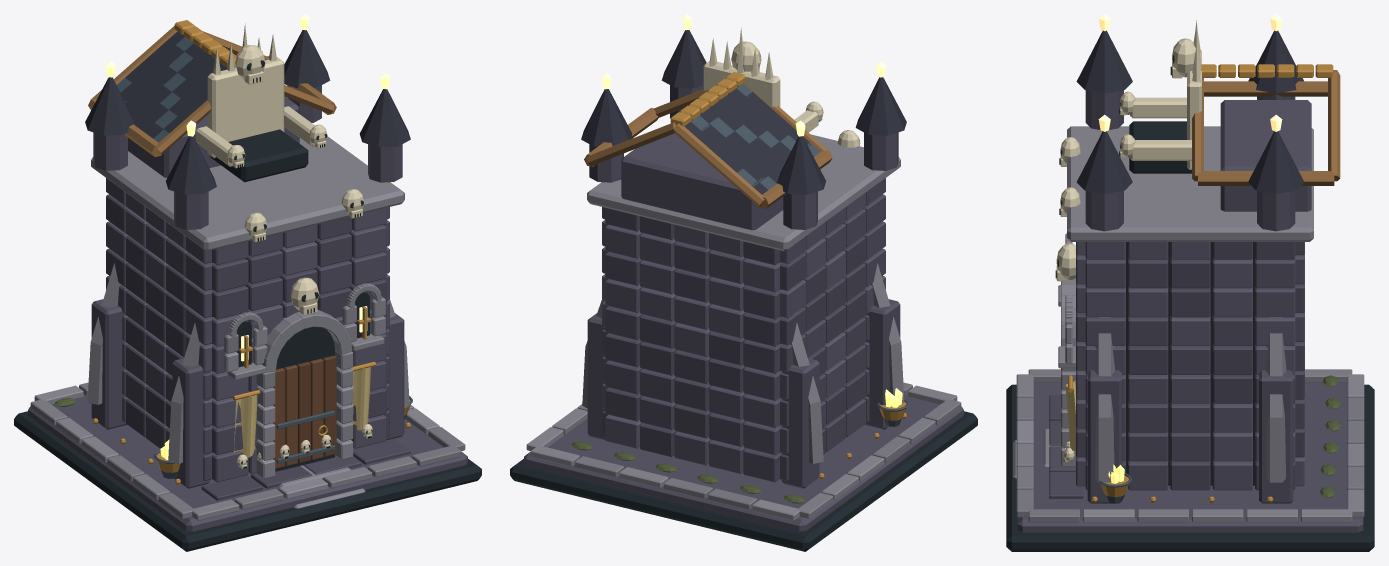
Rendered from necro__senhor__L20.glb.
The picture shows the model from 3 angles, left to right: view 1: azimuth 30°, elevation 25°; view 2: azimuth 150°, elevation 25°; view 3: azimuth 270°, elevation 25°; orthographic projection. The views are drawn at different scales.
Parts seen in each view (by area): view 1: structure, weapon, banners; view 2: structure, weapon; view 3: structure, weapon, banners.
Boxes of the visible parts, x1,y1,x2,y2 form: structure: (14, 14, 481, 551); weapon: (196, 23, 327, 182); banners: (233, 361, 375, 457); structure: (510, 14, 977, 551); weapon: (703, 27, 823, 132); structure: (1006, 14, 1374, 551); weapon: (1119, 20, 1202, 173); banners: (1065, 375, 1075, 451).
Size of the model in its own units: 0.803 by 1.1 by 0.803.
